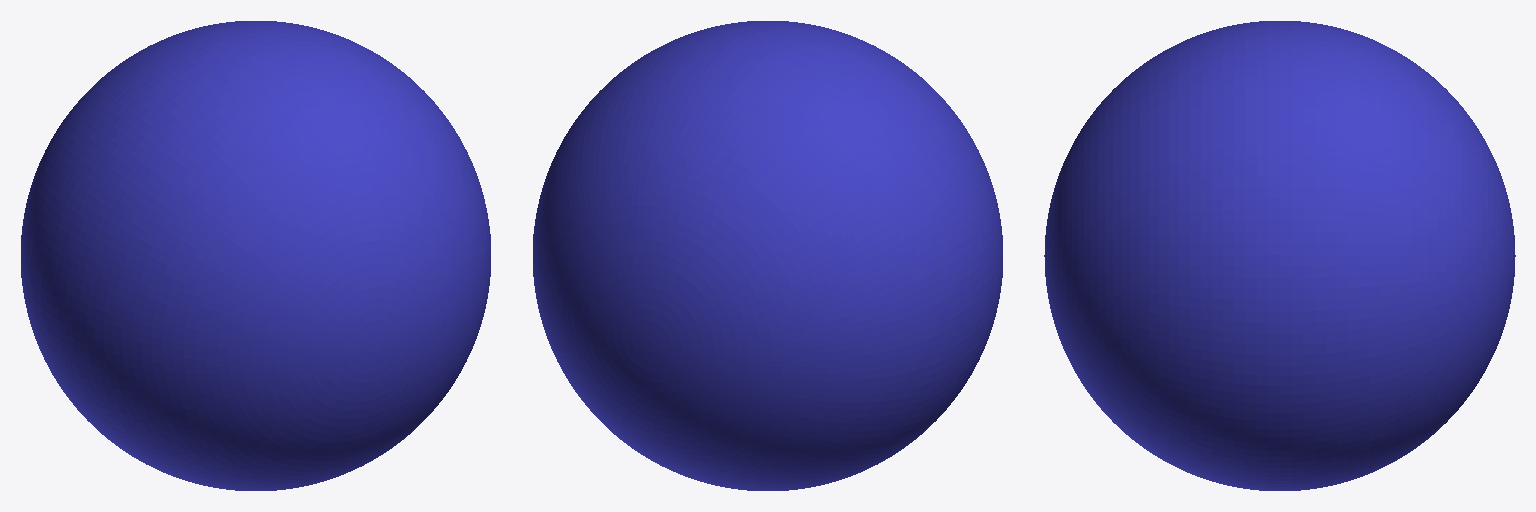
The model's file is BigSphere.obj.
3 views of the same model, side by side, from view 1: azimuth 30°, elevation 25°; view 2: azimuth 150°, elevation 25°; view 3: azimuth 270°, elevation 25° (orthographic).
Visible parts, largest first — view 1: Sphere001; view 2: Sphere001; view 3: Sphere001.
Boxes of the visible parts, x1=… form: Sphere001: x1=21, y1=21, x2=490, y2=490; Sphere001: x1=533, y1=21, x2=1002, y2=490; Sphere001: x1=1044, y1=21, x2=1515, y2=490.
Size of the model in its own units: 10 by 10 by 10.